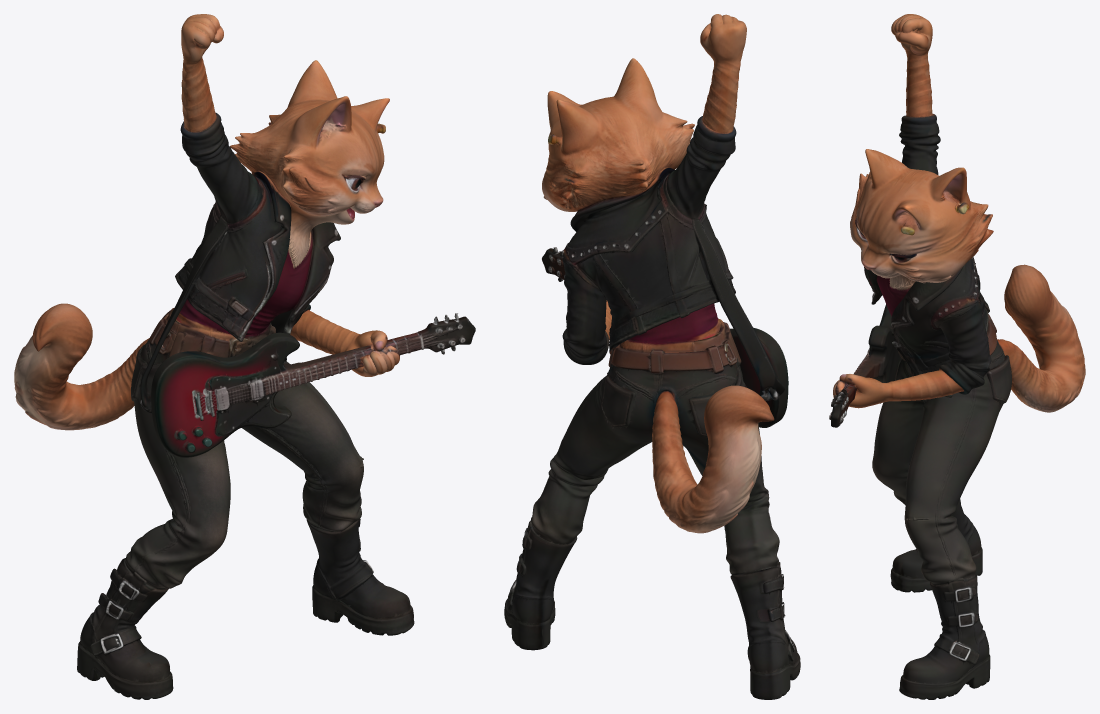
File: 亚文化猫.glb
3 views of the same model, side by side, from view 1: azimuth 30°, elevation 25°; view 2: azimuth 150°, elevation 25°; view 3: azimuth 270°, elevation 25° (orthographic). The views are drawn at different scales.
Visible parts, largest first — view 1: tripo_node_c308e3bd-6ea2-4f7b-9ecd-9716570ac7b2; view 2: tripo_node_c308e3bd-6ea2-4f7b-9ecd-9716570ac7b2; view 3: tripo_node_c308e3bd-6ea2-4f7b-9ecd-9716570ac7b2.
Part boxes in pixels (x1=…): tripo_node_c308e3bd-6ea2-4f7b-9ecd-9716570ac7b2: x1=14, y1=14, x2=475, y2=699; tripo_node_c308e3bd-6ea2-4f7b-9ecd-9716570ac7b2: x1=504, y1=14, x2=800, y2=699; tripo_node_c308e3bd-6ea2-4f7b-9ecd-9716570ac7b2: x1=829, y1=14, x2=1085, y2=699.
Size of the model in its own units: 0.5256 by 0.9792 by 0.3842.
1 material, 1 textured.
